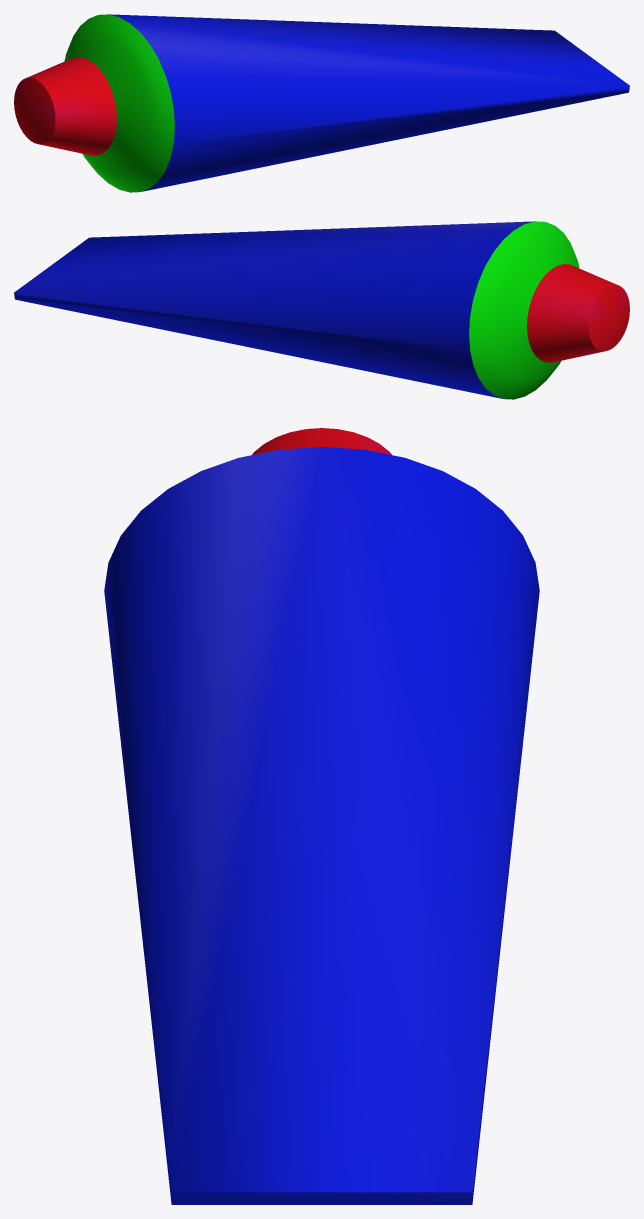
The model's file is samponek.fbx.
3 renders of one model, top to bottom at view 1: azimuth 30°, elevation 25°; view 2: azimuth 150°, elevation 25°; view 3: azimuth 270°, elevation 25°, orthographic. The views are drawn at different scales.
Parts seen in each view (by area): view 1: Toothpaste; view 2: Toothpaste; view 3: Toothpaste.
Boxes of the visible parts, x1=… form: Toothpaste: x1=14, y1=14, x2=629, y2=192; Toothpaste: x1=14, y1=221, x2=629, y2=399; Toothpaste: x1=104, y1=428, x2=539, y2=1204.
Bounding box in the file's own units: 22.17 × 5.79 × 7.4.
